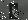person: (7, 4, 18, 20)
